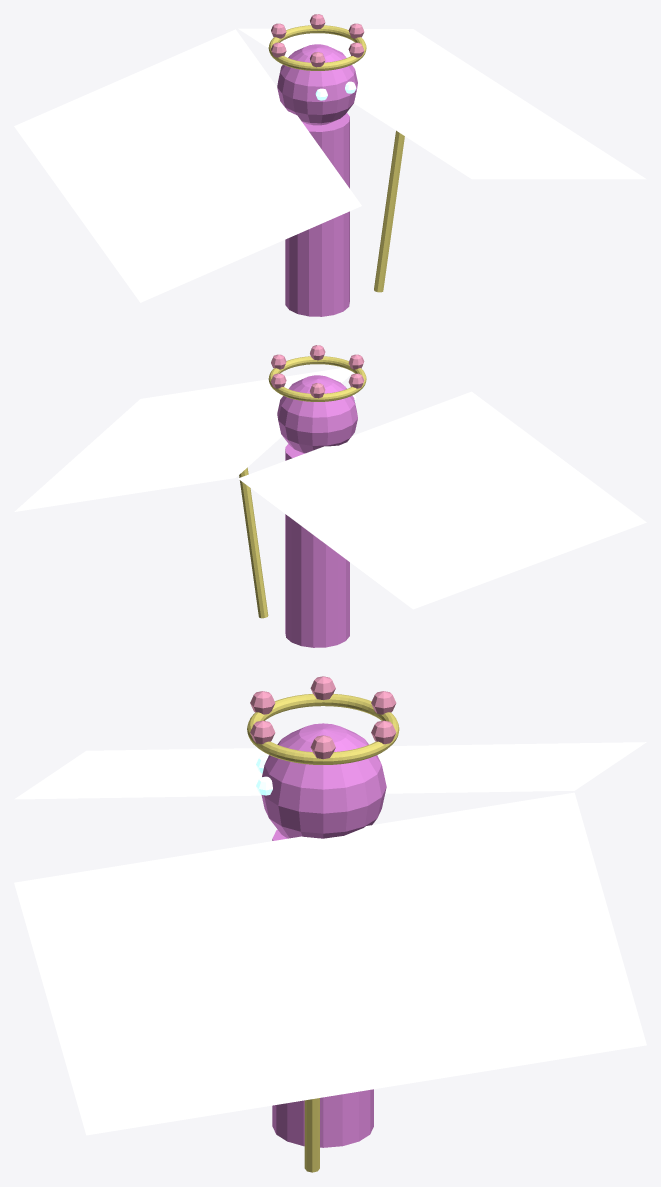
Rendered from boss_fairy_queen.glb.
3 views of the same model, one above another, from view 1: azimuth 30°, elevation 25°; view 2: azimuth 150°, elevation 25°; view 3: azimuth 270°, elevation 25° (orthographic). The views are drawn at different scales.
Visible parts, largest first — view 1: Plane, Plane.001, Cylinder, Sphere, Cylinder.001, Torus, Sphere.007; view 2: Plane, Plane.001, Cylinder, Sphere, Torus, Cylinder.001, Sphere.007; view 3: Plane.001, Plane, Sphere, Cylinder, Torus, Sphere.007, Cylinder.001.
Part boxes in pixels (x1,y1,x2,y2): Plane: [14, 29, 361, 302]; Plane.001: [238, 28, 646, 179]; Cylinder: [285, 113, 349, 316]; Sphere: [277, 44, 357, 125]; Cylinder.001: [374, 130, 404, 292]; Torus: [268, 25, 366, 70]; Sphere.007: [382, 82, 414, 109]; Plane: [238, 391, 646, 609]; Plane.001: [14, 368, 353, 511]; Cylinder: [285, 444, 349, 647]; Sphere: [277, 375, 357, 453]; Torus: [268, 356, 366, 401]; Cylinder.001: [239, 467, 268, 618]; Sphere.007: [227, 408, 259, 434]; Plane.001: [14, 792, 646, 1135]; Plane: [14, 742, 646, 799]; Sphere: [261, 723, 386, 838]; Cylinder: [272, 829, 373, 1147]; Torus: [247, 693, 399, 764]; Sphere.007: [287, 866, 337, 914]; Cylinder.001: [304, 1098, 319, 1172].
Bounding box in the file's own units: 25.09 × 12.78 × 17.44.
